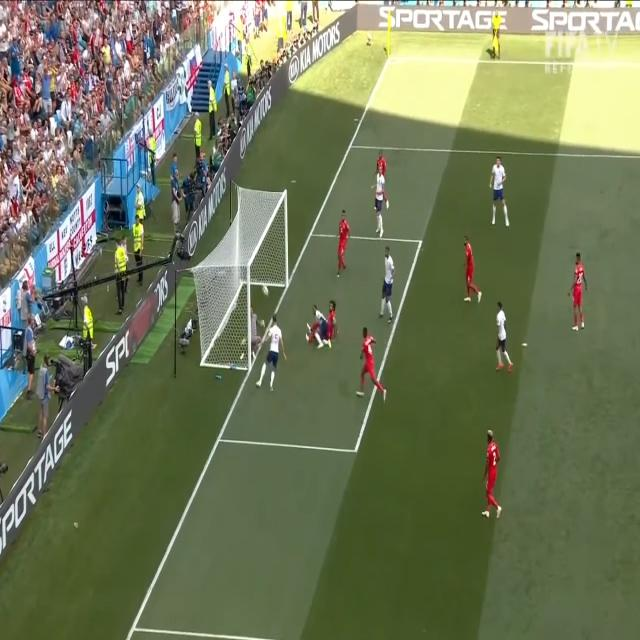ball: (262, 280, 271, 299)
player: (259, 314, 288, 389), (358, 328, 386, 398), (459, 236, 484, 308), (483, 430, 501, 519), (493, 303, 515, 373), (490, 156, 510, 230), (571, 250, 587, 333), (380, 247, 396, 321), (335, 208, 351, 278), (374, 169, 386, 239), (314, 305, 328, 346), (330, 300, 338, 343), (375, 148, 389, 172)
